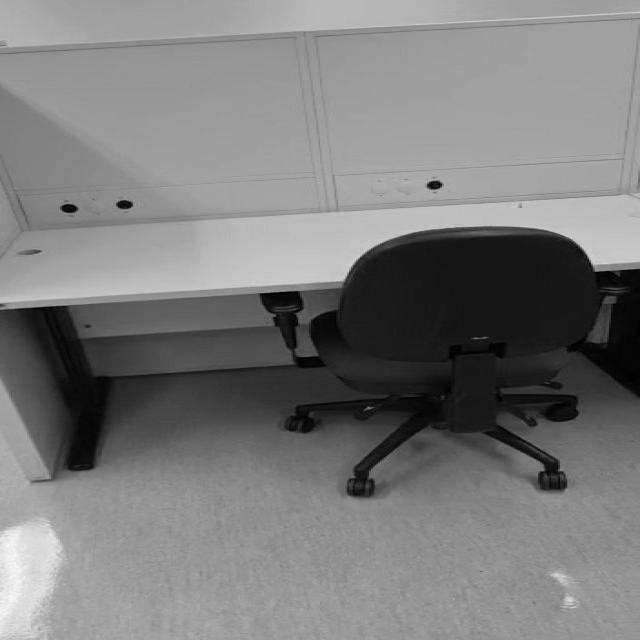cadeira-azul: (259, 226, 596, 497)
